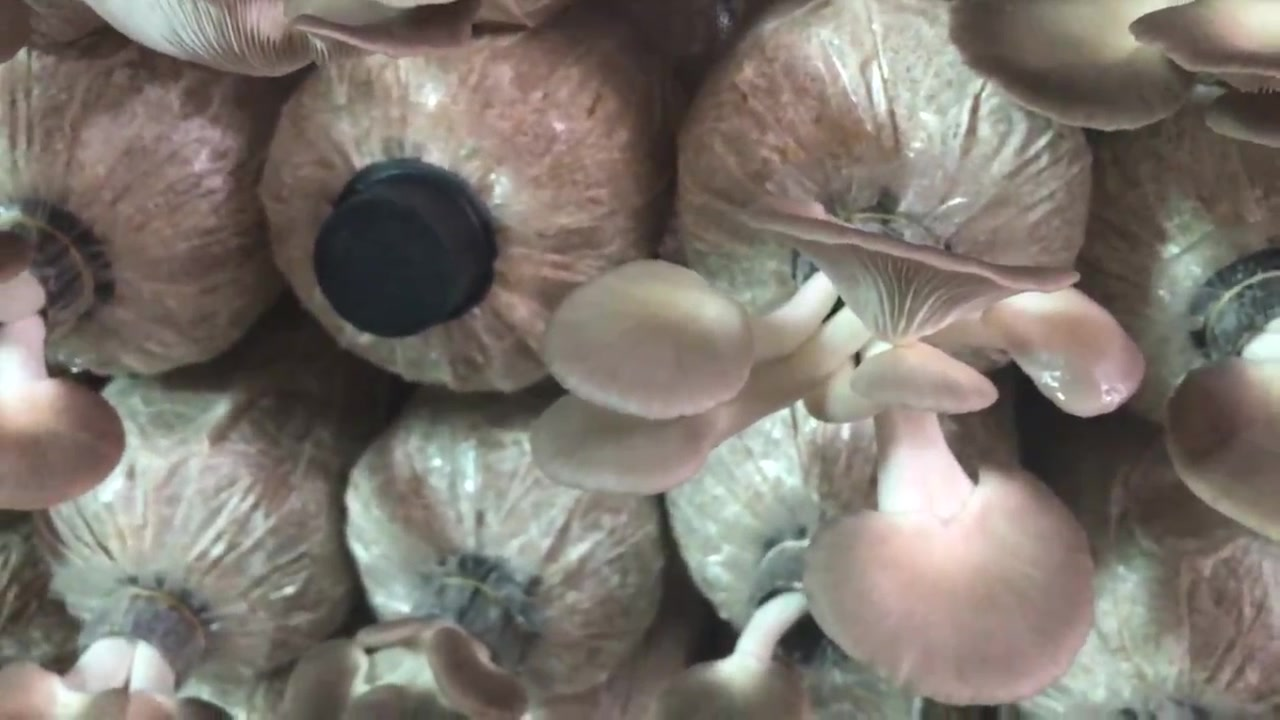nam: (528, 196, 1145, 710), (946, 6, 1280, 150), (1, 206, 131, 512), (1161, 259, 1280, 540)
